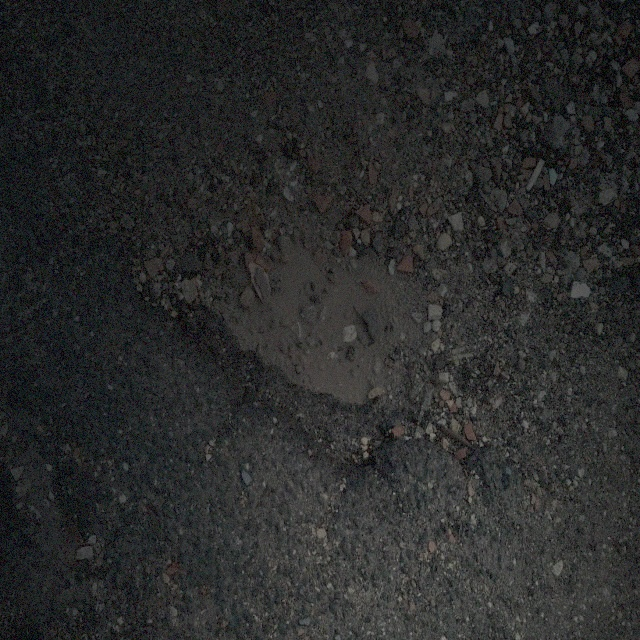pothole: (179, 217, 475, 486)
